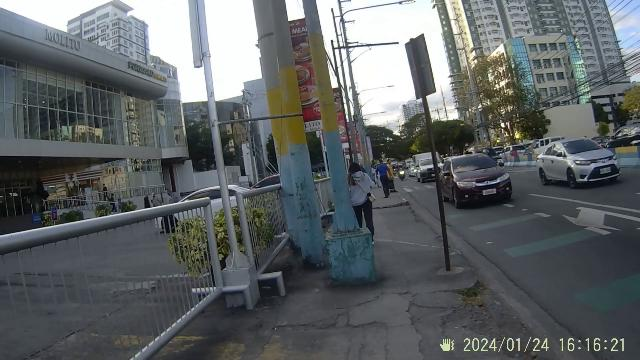car: (534, 138, 622, 188), (440, 152, 516, 208)
street_sign: (391, 31, 451, 250)
utility_post: (303, 23, 382, 283)
